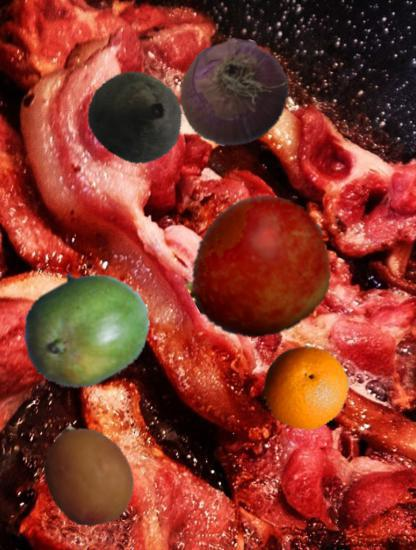Apricot: (37, 427, 138, 528)
Beetroot: (87, 66, 191, 170)
Mango: (22, 264, 149, 391)
Nectarine: (186, 195, 332, 341)
Onion: (179, 37, 289, 147)
Orange: (263, 344, 349, 430)
